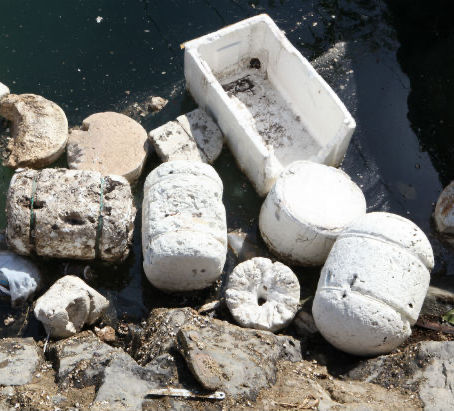buoy: (309, 209, 434, 357), (3, 165, 135, 261), (255, 158, 366, 265), (137, 158, 225, 292)
